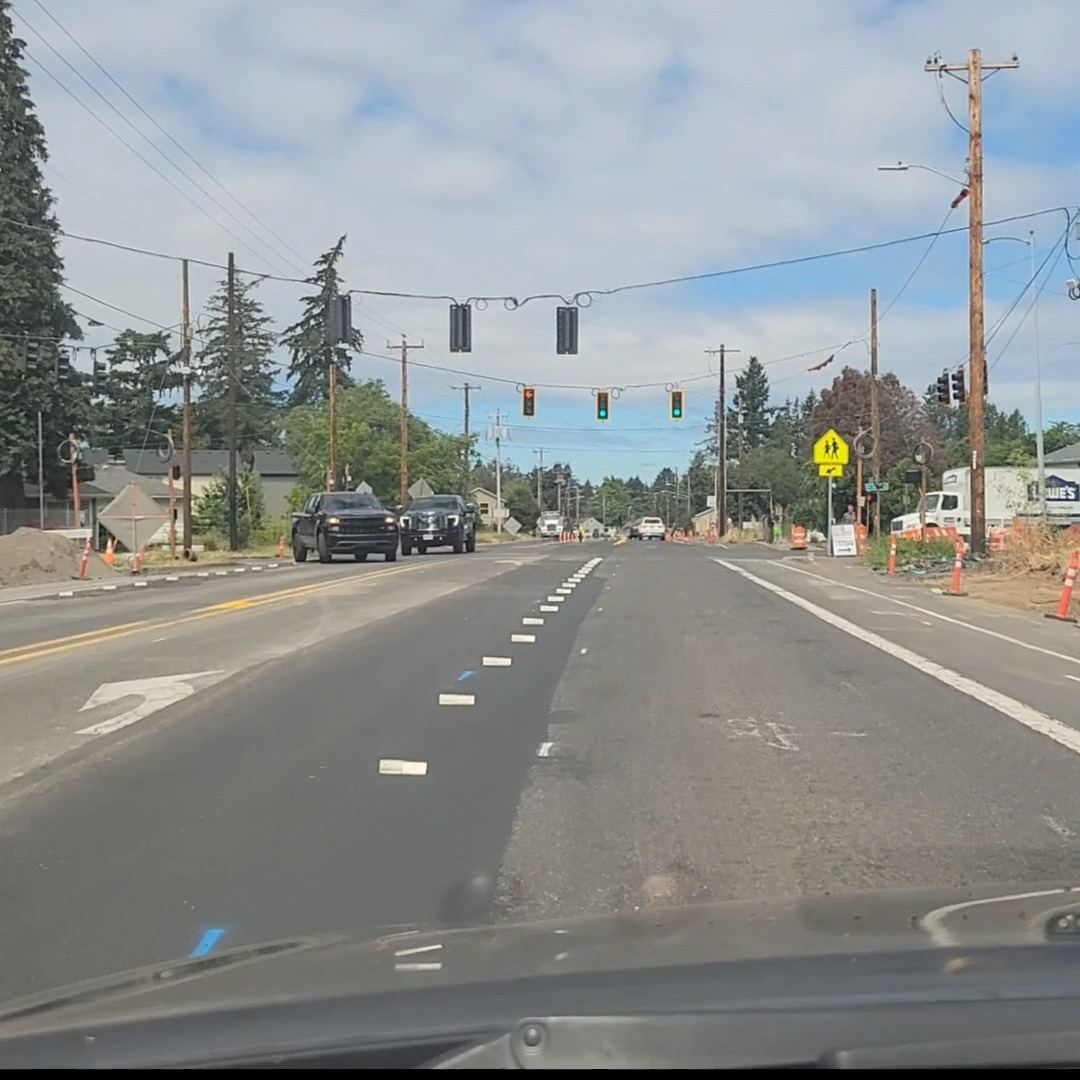car: (290, 493, 399, 563), (395, 494, 477, 555), (628, 516, 666, 539), (536, 511, 564, 539)
crosswalk-sign: (812, 428, 848, 471)
delineator: (1051, 550, 1079, 619), (942, 532, 968, 596), (78, 539, 92, 578), (887, 533, 897, 575), (132, 545, 144, 573), (276, 534, 286, 557), (904, 527, 919, 541)
